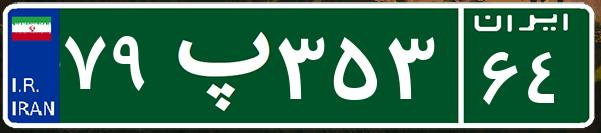3: (385, 28, 445, 110), (273, 28, 330, 110)
4: (525, 38, 570, 115)
5: (330, 28, 385, 110)
6: (475, 38, 525, 113)
7: (57, 26, 110, 107)
9: (110, 28, 158, 105)
پ: (158, 15, 273, 115)
